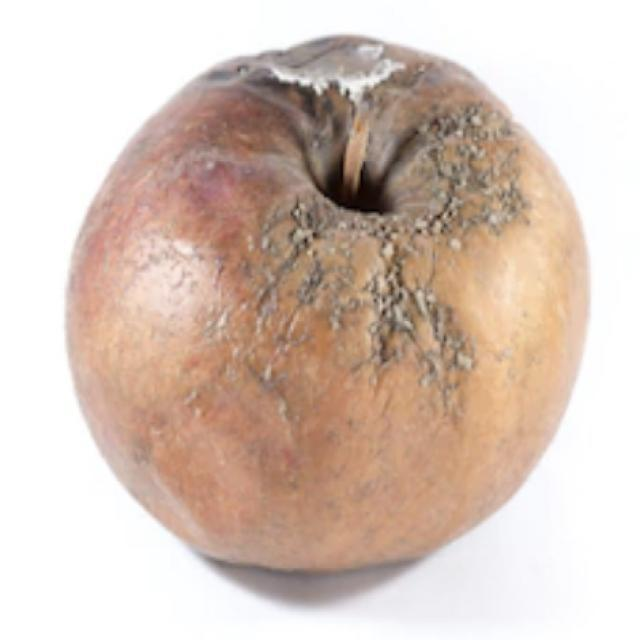Rotten: (83, 36, 580, 586)
